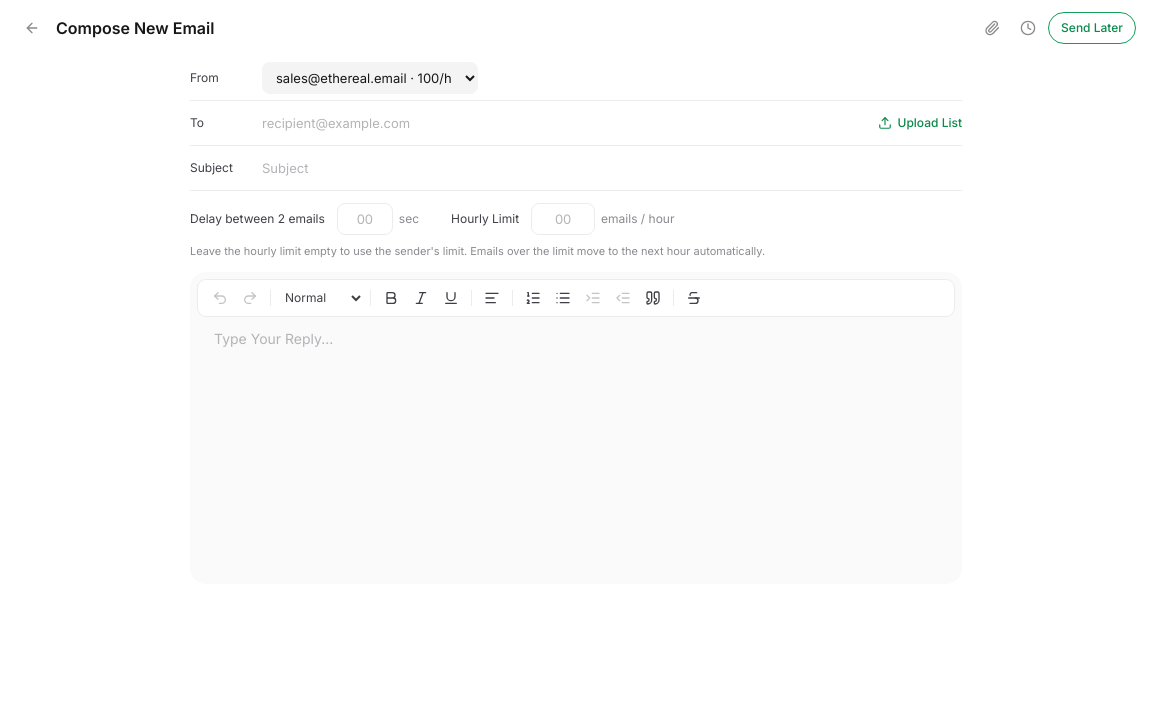
Test: ComposePage › blocks scheduling and shows field errors when the form is incomplete
The image size is (1152, 720).
Check: the dropdown labelled "From" is shown, box [262,62,478,94]
Click the button "Send Later" at (1092, 28), box [1048,12,1136,44]
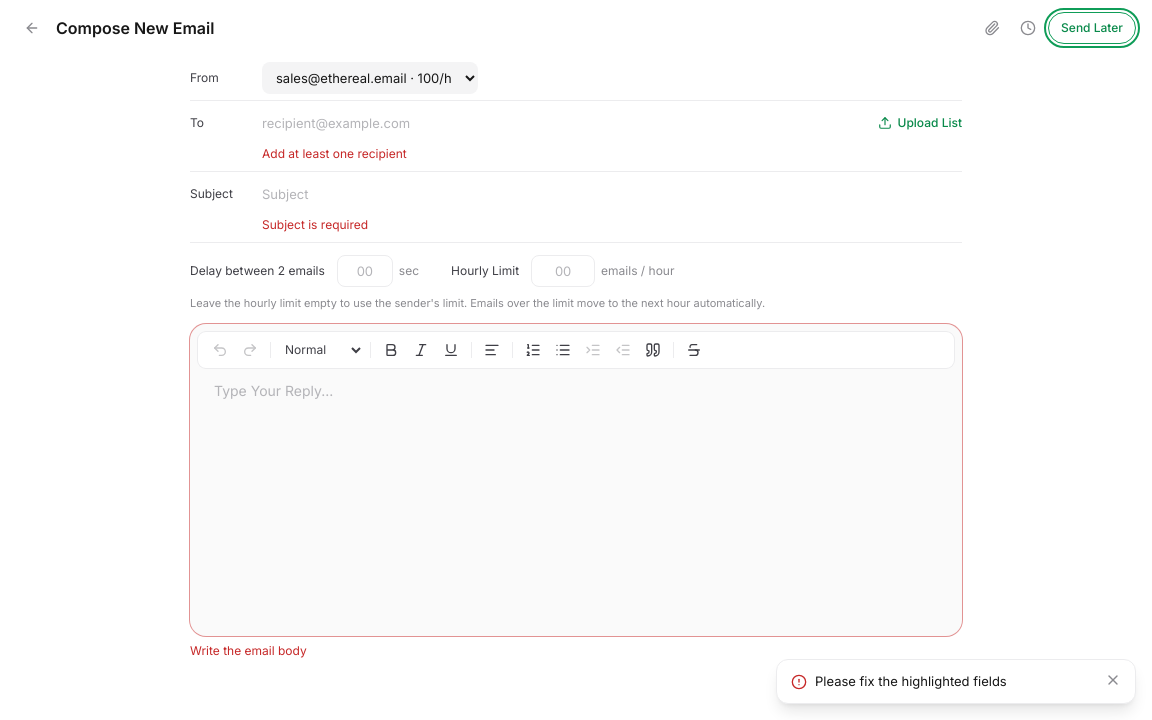
Check: the text "Add at least one recipient" is shown, box [262,146,407,161]
Check: the text "Subject is required" is shown, box [262,217,368,232]
Check: the text "Write the email body" is shown, box [190,642,307,658]
